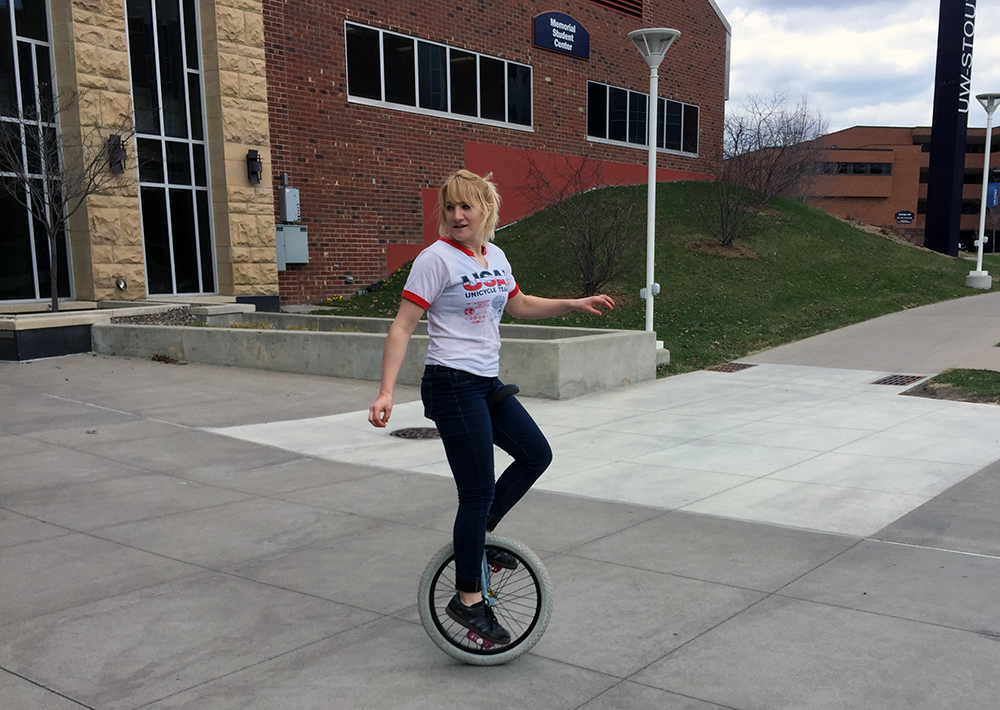wheel: (409, 514, 555, 674)
